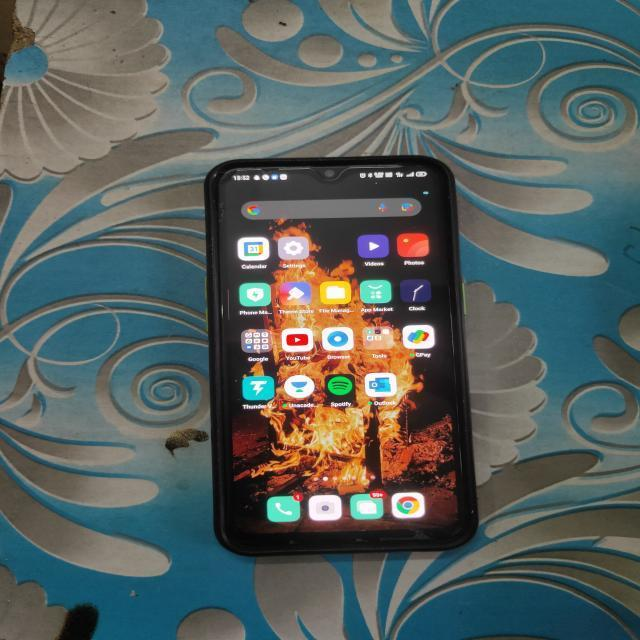Phone: (202, 147, 484, 563)
